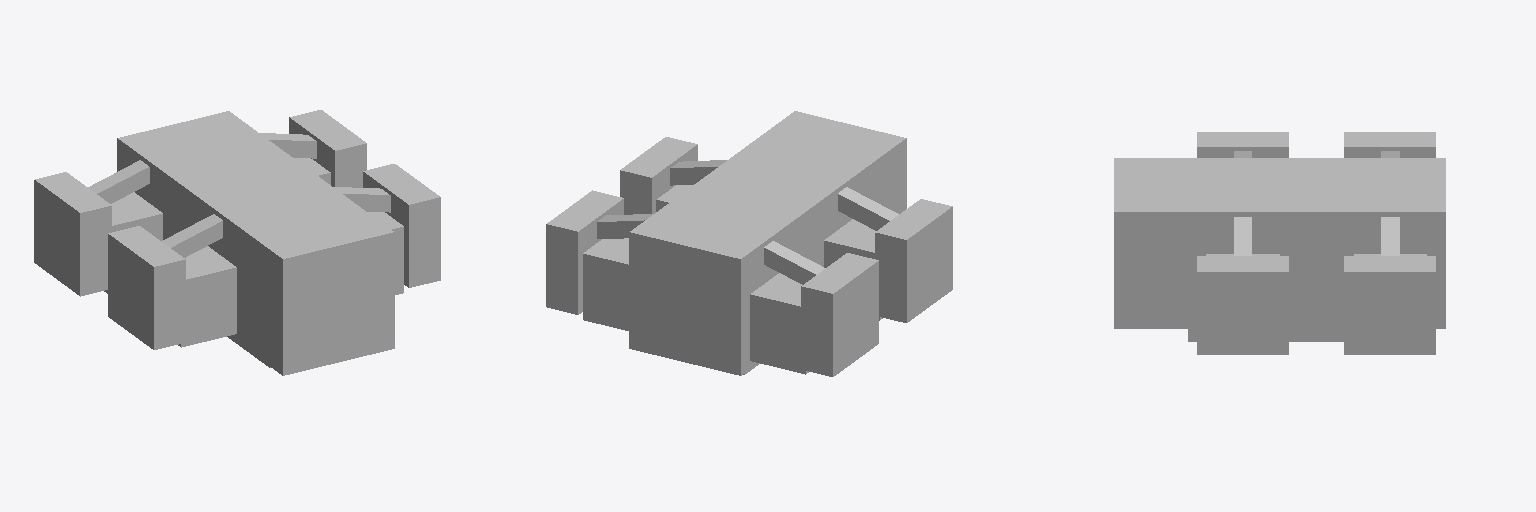
The model's file is enginelycomingo360.obj.
The picture shows the model from 3 angles: view 1: azimuth 30°, elevation 25°; view 2: azimuth 150°, elevation 25°; view 3: azimuth 270°, elevation 25°; orthographic projection.
Parts seen in each view (by area): view 1: bodyModel.001; view 2: bodyModel.001; view 3: bodyModel.001.
Boxes of the visible parts, box(x1,y1,x2,y2) form: bodyModel.001: box(34, 110, 440, 375); bodyModel.001: box(546, 111, 952, 376); bodyModel.001: box(1114, 132, 1445, 354).
Size of the model in its own units: 1.12 by 0.5312 by 1.12.